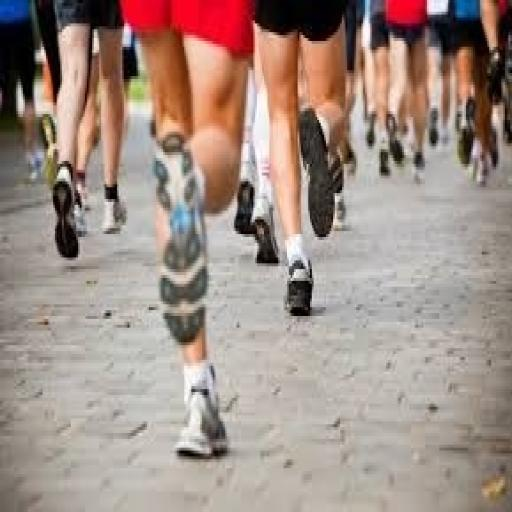running: (118, 0, 258, 462), (252, 0, 350, 319)
